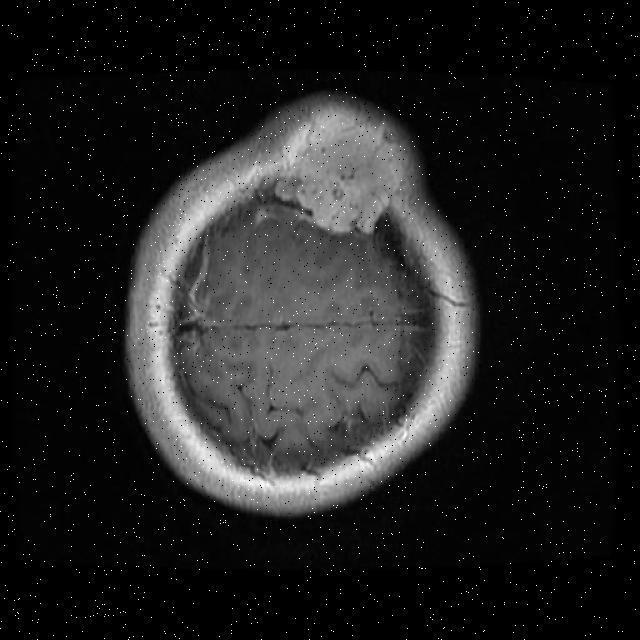Meningioma: (260, 107, 411, 233)
